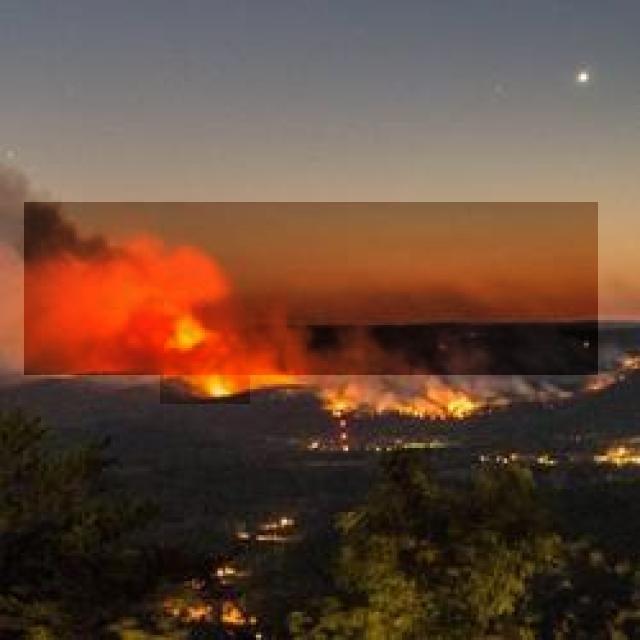Fire: (160, 307, 250, 404)
Smoke: (24, 202, 598, 375)
